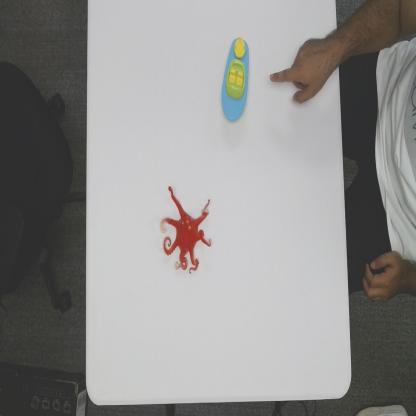Boat: (221, 34, 250, 124)
Hand: (268, 27, 336, 106)
Octopus: (160, 183, 212, 273)
